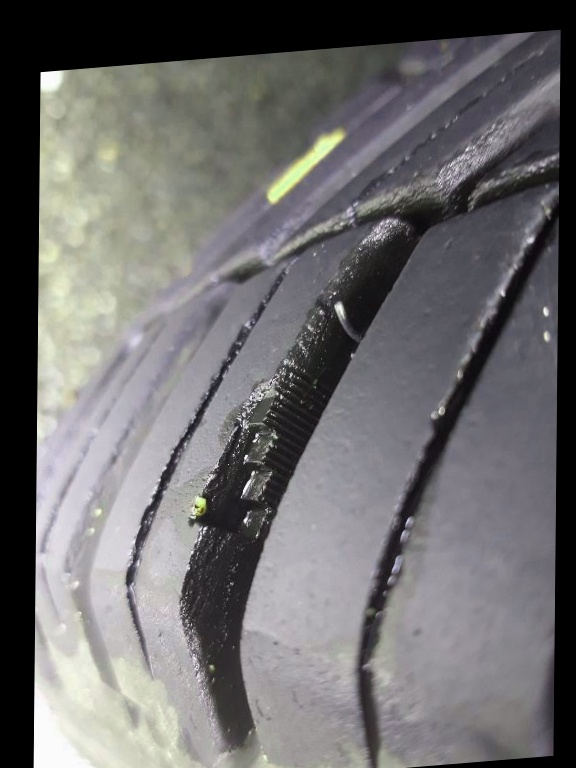temoin:80: (185, 359, 337, 557)
